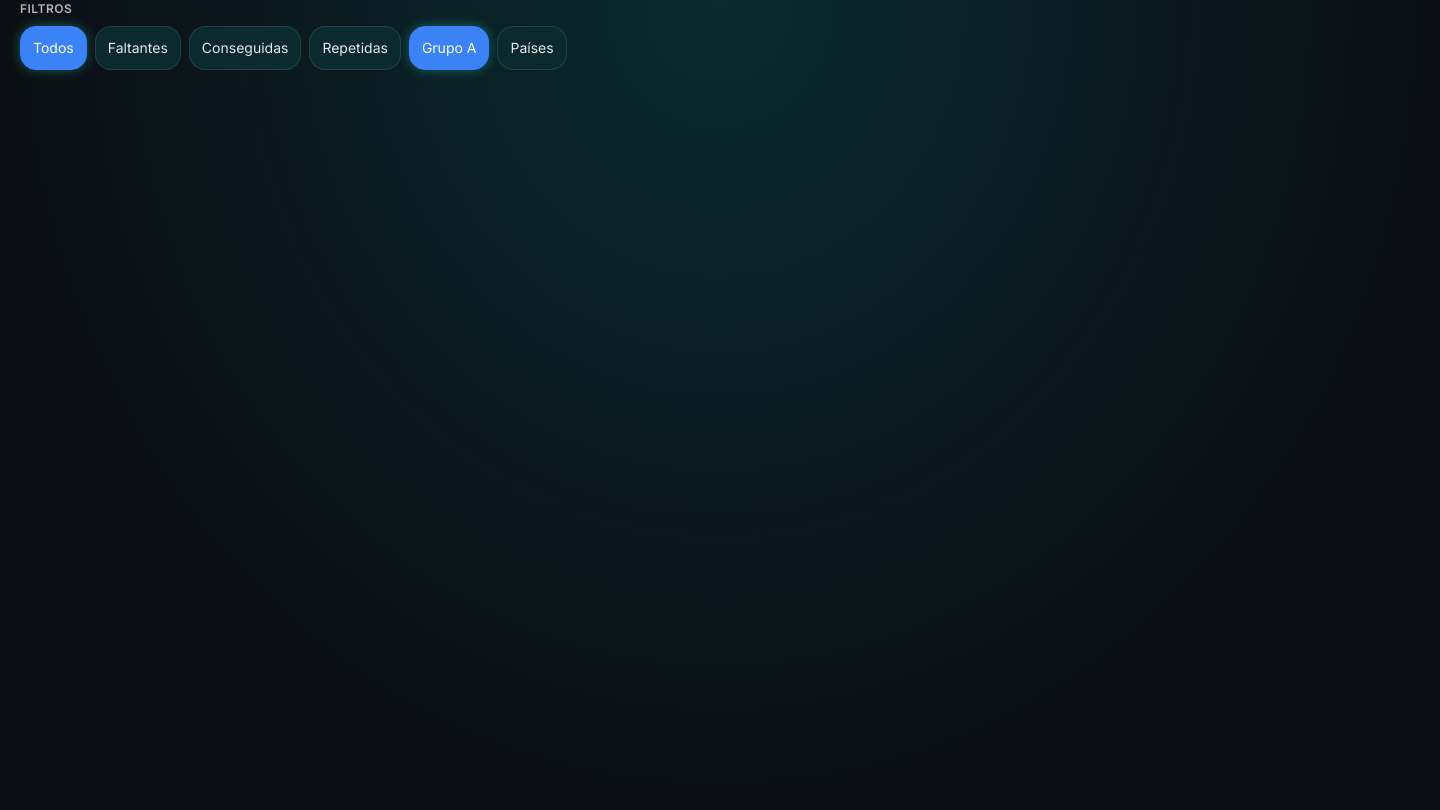
Scenario: FilterBar › reopens the Grupos sheet from an active selection without clearing scope
Click the button "Grupo A".
click(449, 48)  # box [409,26,490,70]
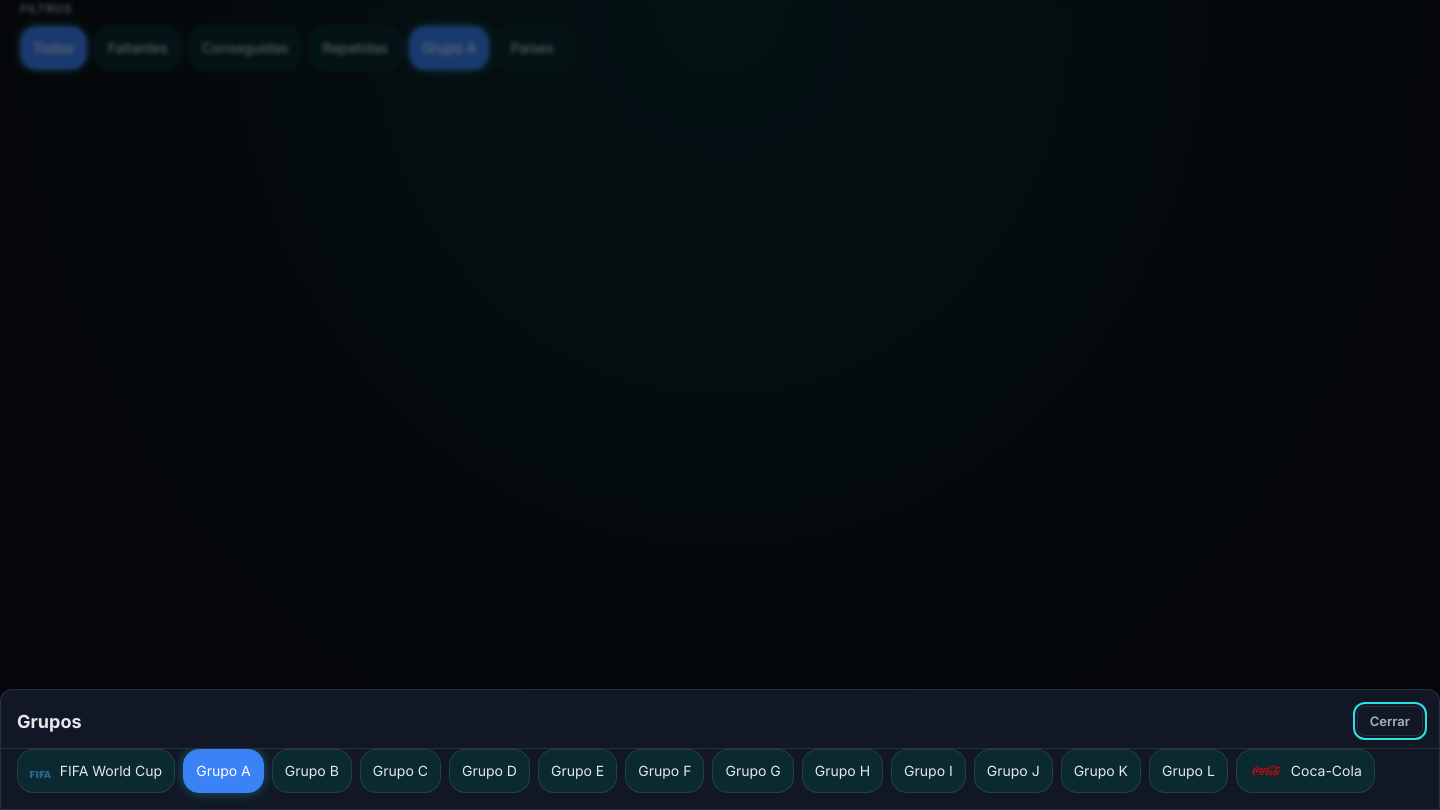
Result: the dialog "Grupos" is shown at [0,689,1439,809]
